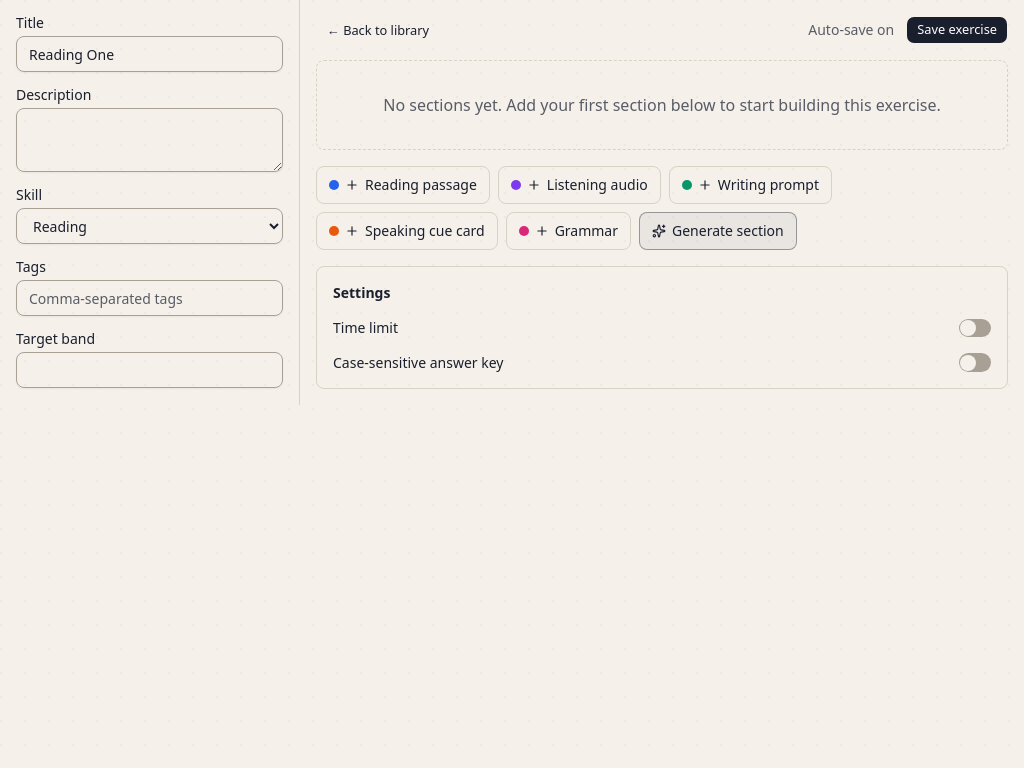
Scenario: ExerciseEditorPage — authoring (AC2/AC3/AC4/AC5) › adding a section, an MCQ group, marking correct → PATCH carries the shape
The image size is (1024, 768).
Expected: the element with test id "exercise-editor" is shown, [0,0,1023,405]
Click the button with test id "section-type-add-reading": (403, 185) [316,166,490,204]
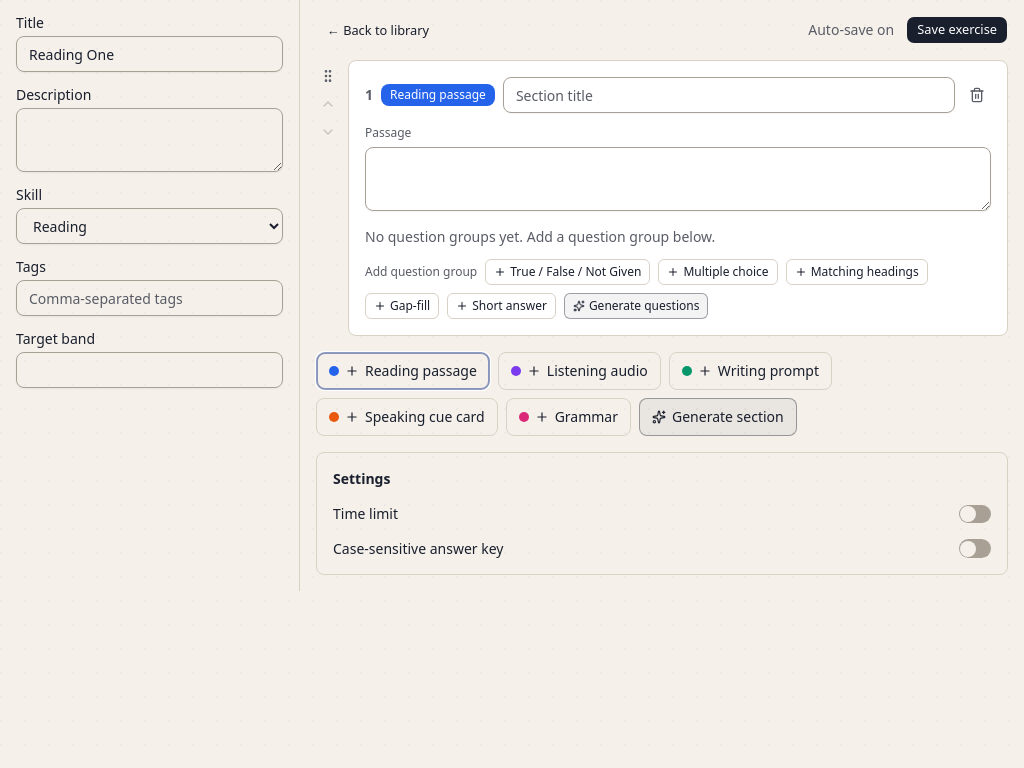
Click the button with test id "add-group-multiple_choice": (718, 272) [658,259,778,285]
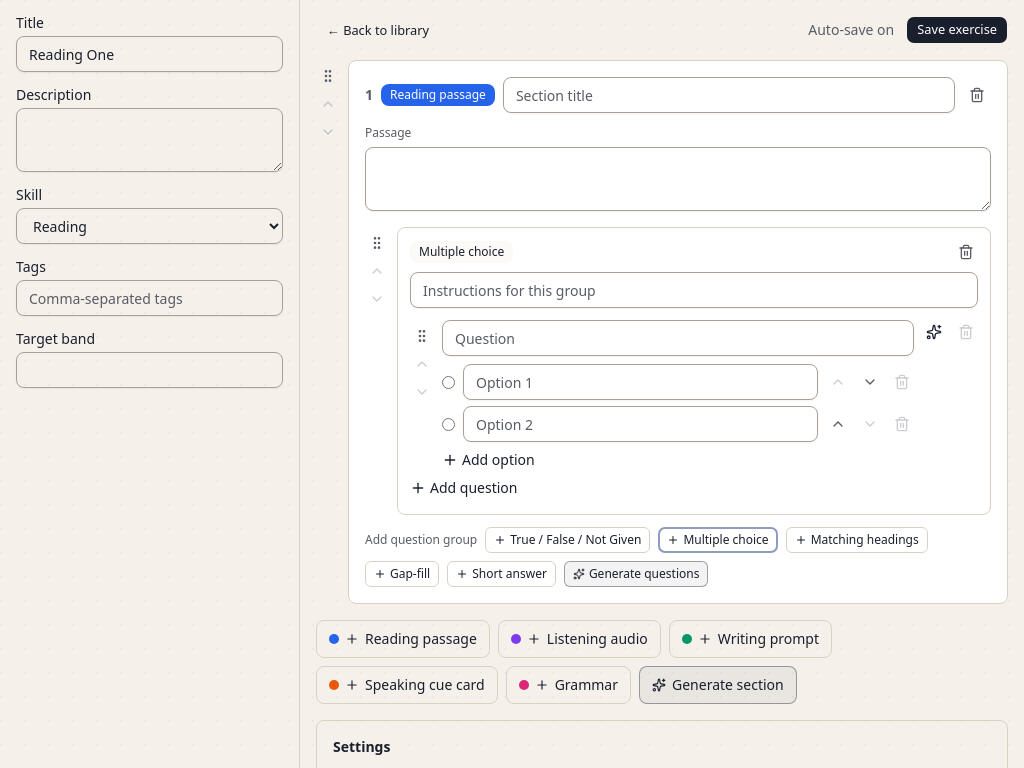
In the field with test id "mcq-option-input-0": (640, 382) [463,364,818,400], type "Paris"
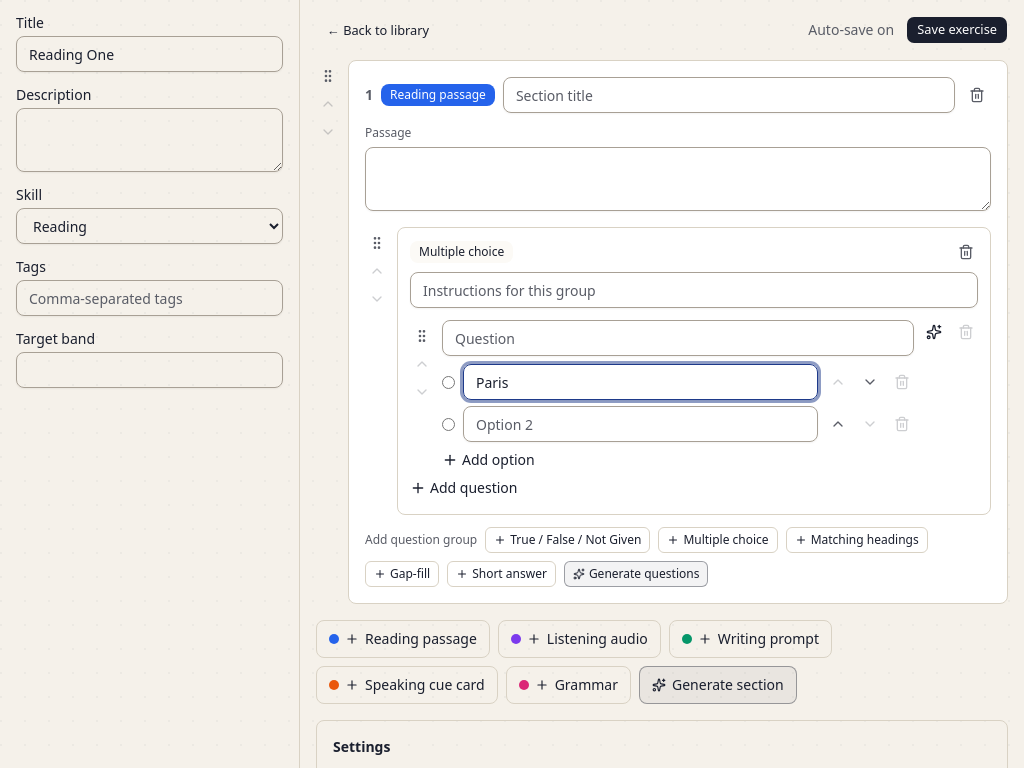
In the field with test id "mcq-option-input-1": (640, 424) [463,406,818,442], type "London"
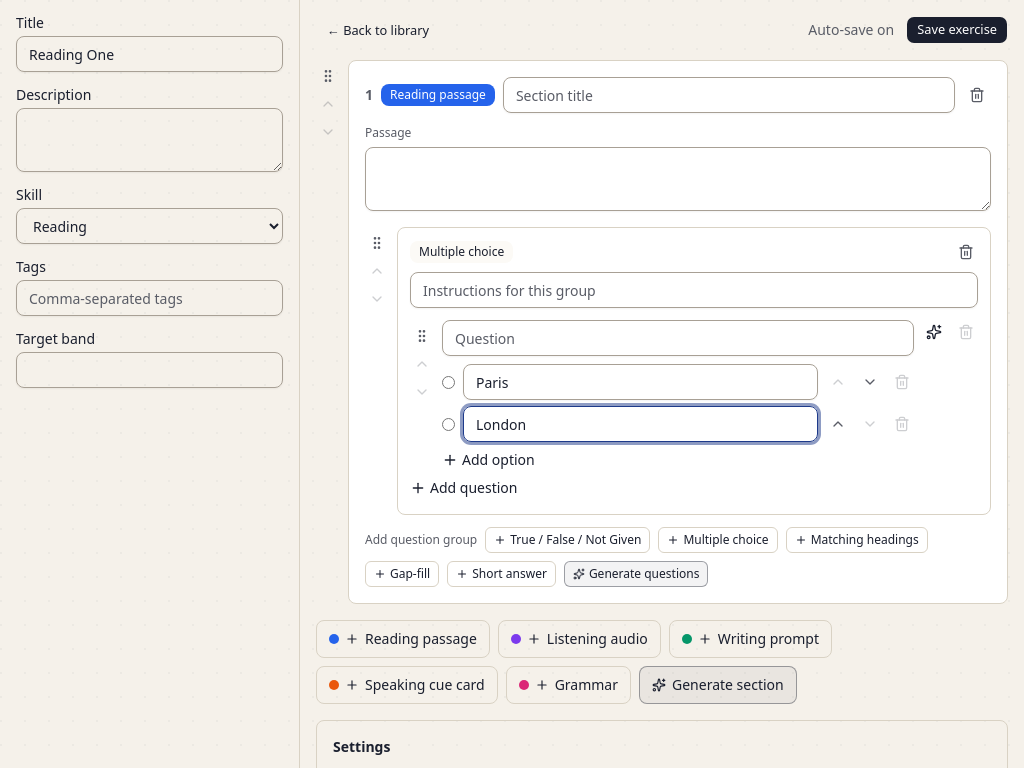
Click the radio button with test id "mcq-mark-correct-0": (448, 382) [442,376,455,388]
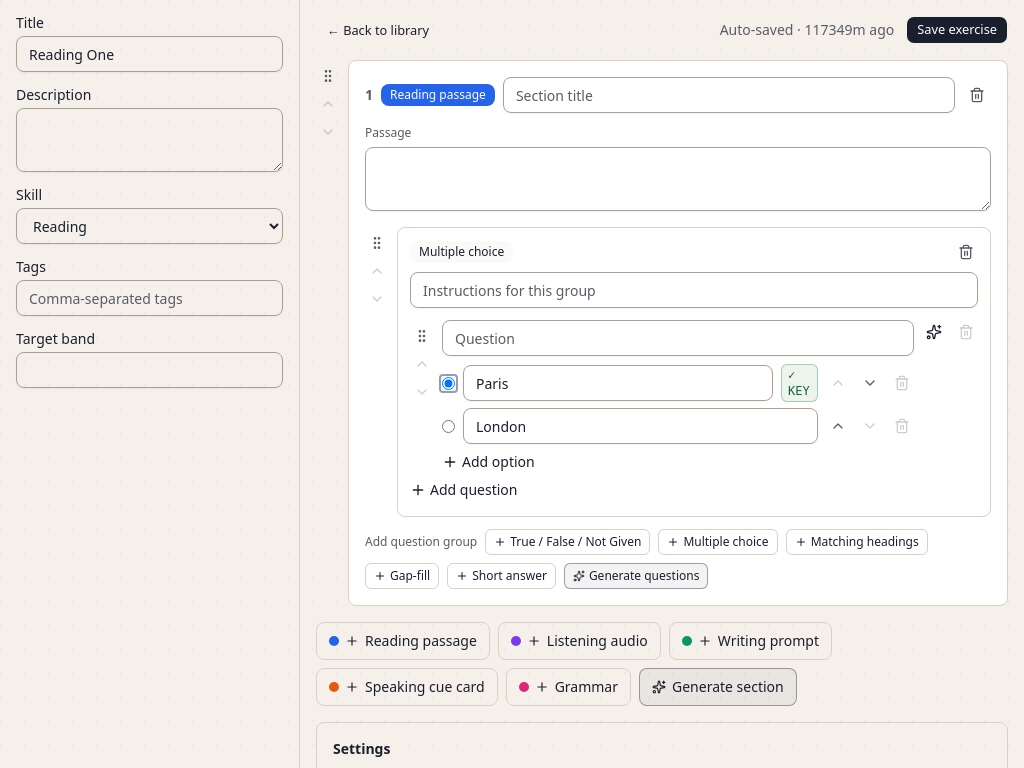
Expected: the text "✓ KEY" is shown, [781,364,818,402]
